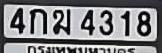1: (120, 10, 129, 35)
3: (98, 9, 112, 34)
4: (9, 7, 24, 33), (80, 9, 94, 34)
8: (136, 10, 150, 35)
A01: (29, 8, 46, 33)
A06: (52, 9, 70, 34)
